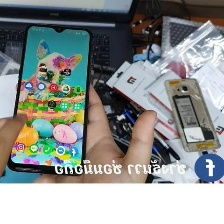phone: (3, 20, 95, 176), (161, 75, 224, 153)
